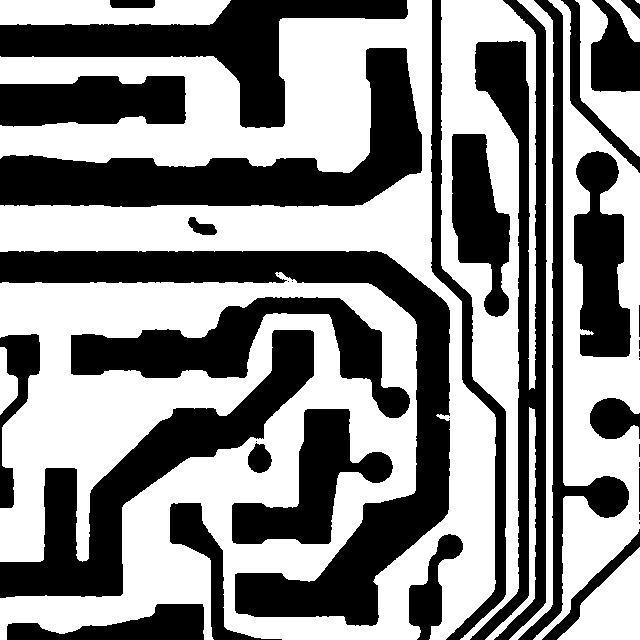copper: (178, 207, 226, 243)
mousebite: (265, 262, 306, 293), (426, 404, 462, 430), (569, 319, 603, 344)
open: (241, 428, 274, 454)
short: (516, 378, 547, 418)
